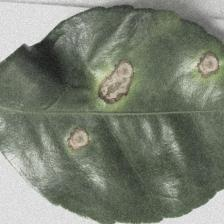canker: (50, 35, 221, 164)
